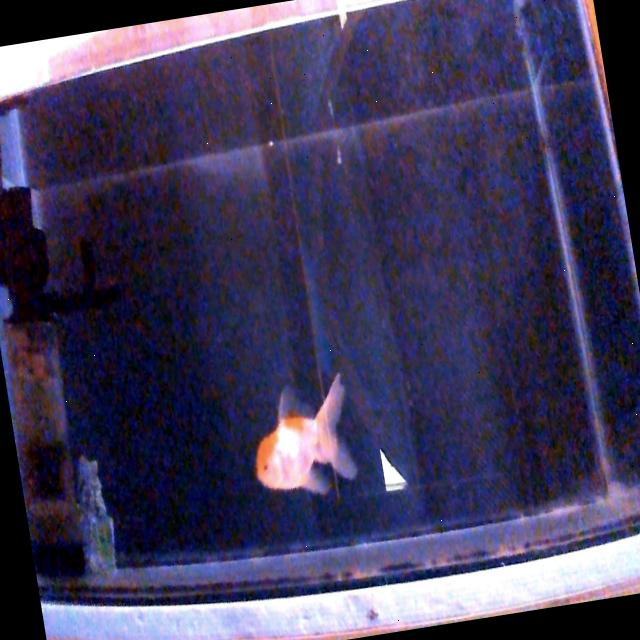fish: (256, 374, 357, 493)
